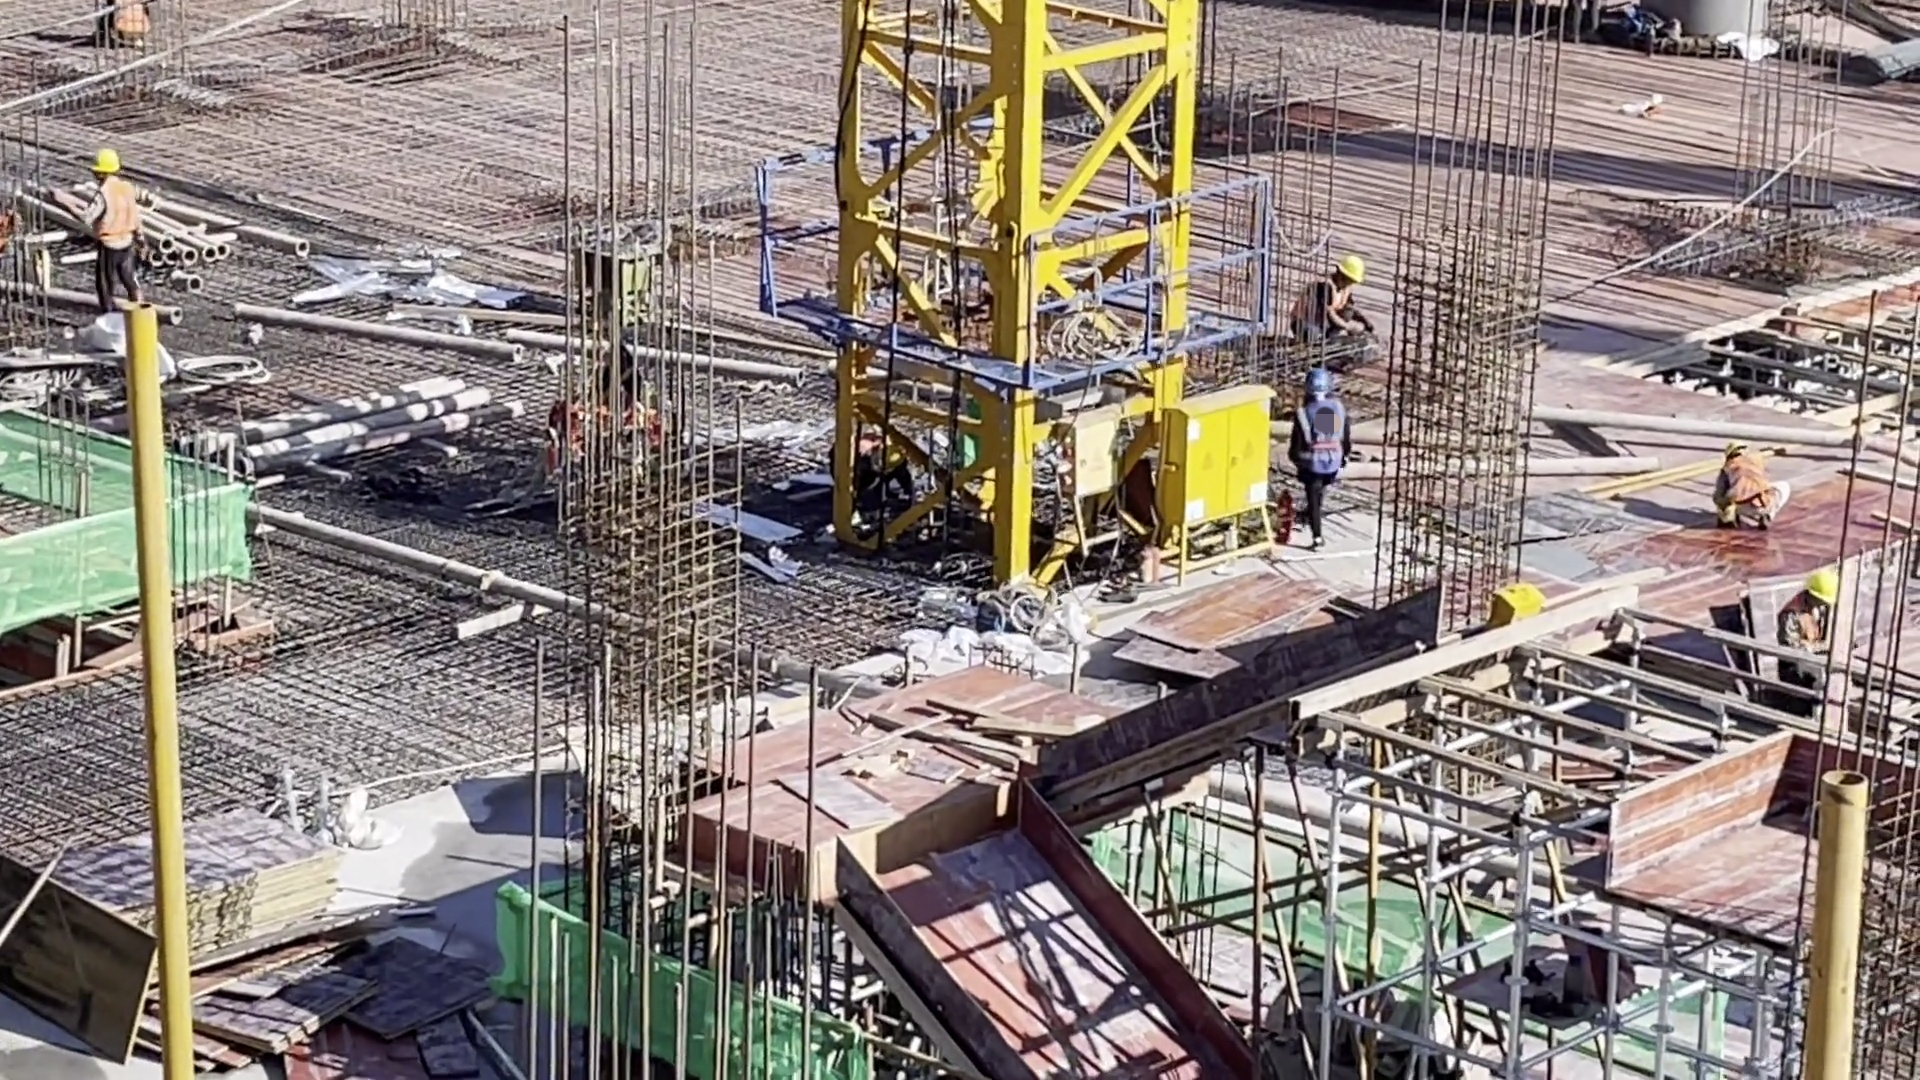helmet: (84, 147, 126, 179), (1802, 568, 1840, 604), (1301, 368, 1336, 398), (1338, 252, 1367, 279)
person: (1282, 362, 1350, 535), (78, 149, 138, 320), (1293, 245, 1372, 348), (1710, 441, 1789, 529), (1773, 571, 1844, 670), (98, 1, 156, 49)
vest: (1284, 393, 1348, 485), (86, 185, 134, 259), (1725, 447, 1775, 502)
